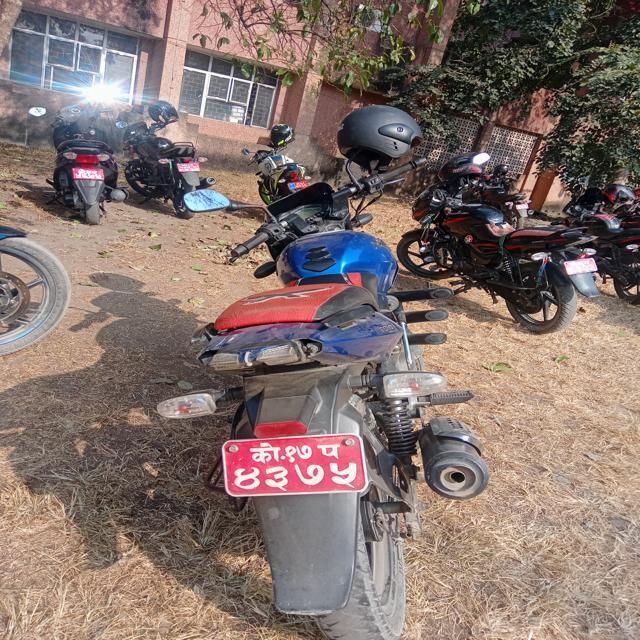license_plate: (220, 423, 366, 506)
